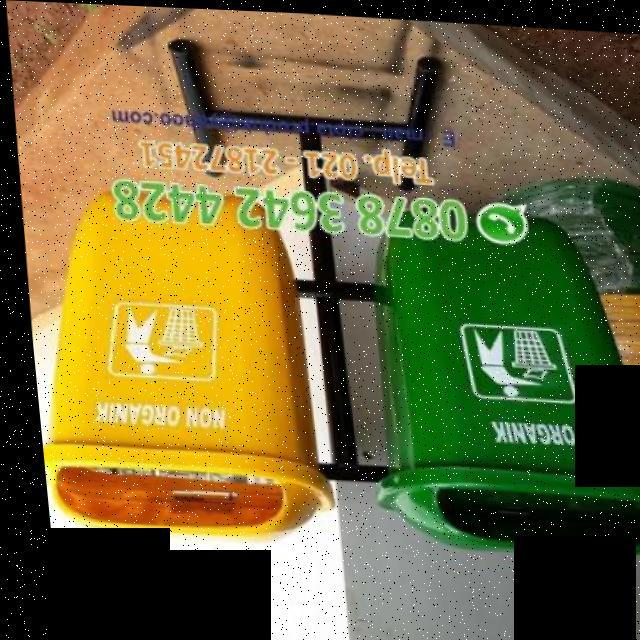bin: (12, 157, 346, 552), (331, 183, 640, 569)
